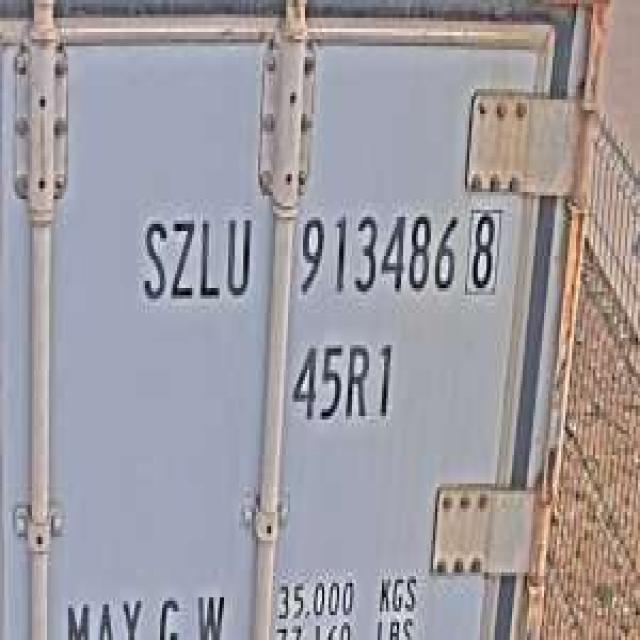dv: (460, 199, 506, 299)
owner: (137, 199, 256, 309)
serial: (292, 196, 459, 306)
size: (286, 331, 399, 430)
